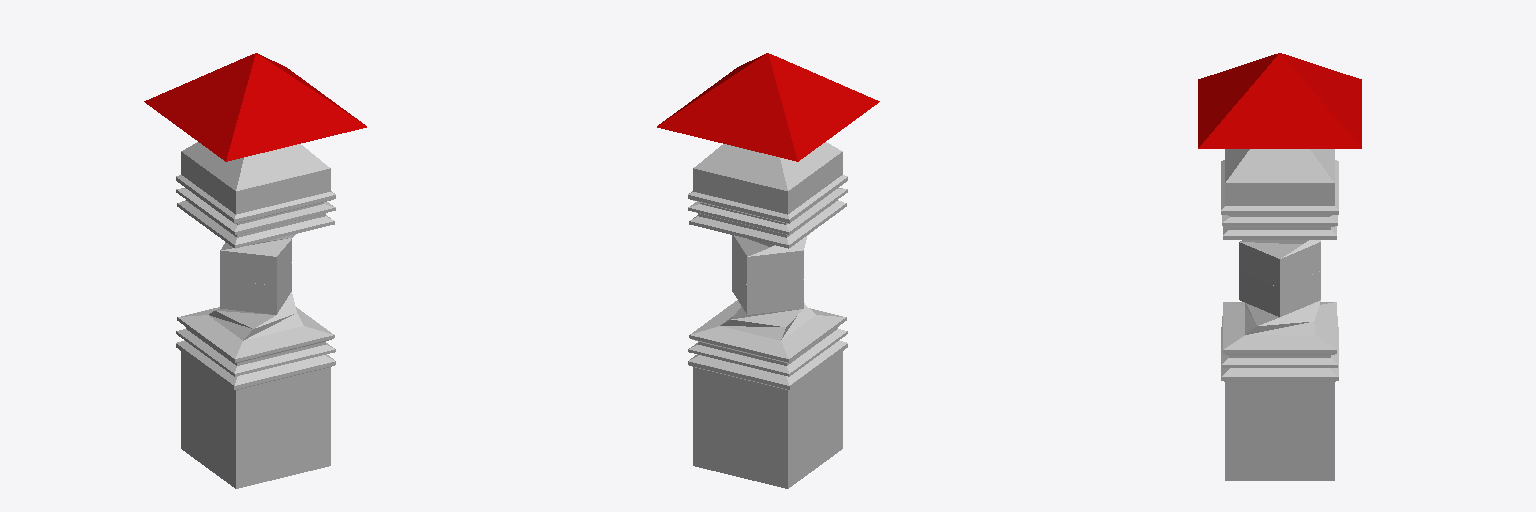
Rendered from temple_pillar.obj.
The picture shows the model from 3 angles: view 1: azimuth 30°, elevation 25°; view 2: azimuth 150°, elevation 25°; view 3: azimuth 270°, elevation 25°; orthographic projection.
Visible parts, largest first — view 1: Cube, Cube.001, Plane; view 2: Cube, Cube.001, Plane; view 3: Cube, Cube.001, Plane.
Part boxes in pixels (x1,y1,x2,y2): Cube: (176,262,335,488); Cube.001: (176,142,335,285); Plane: (144,53,366,161); Cube: (688,263,847,488); Cube.001: (688,142,847,285); Plane: (657,53,879,161); Cube: (1221,271,1338,480); Cube.001: (1221,149,1338,287); Plane: (1198,53,1361,148).
Size of the model in its own units: 3.01 by 8.15 by 3.01.